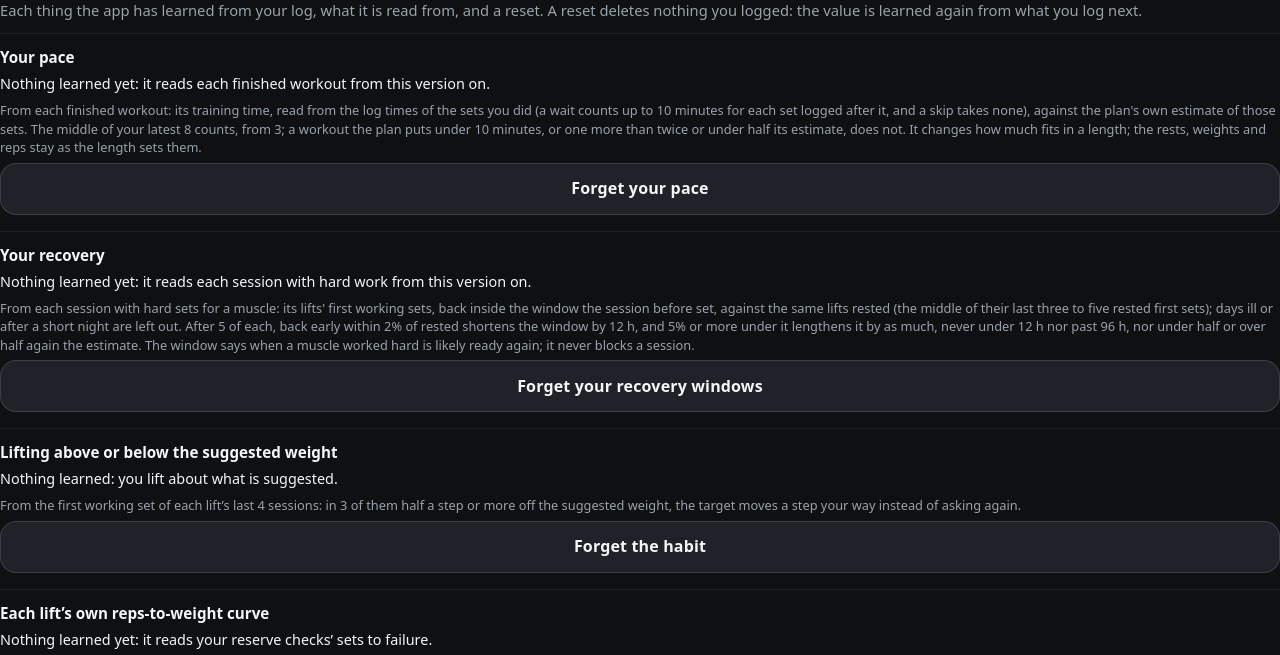
resetting what the app learned › asks once more on the page, and then resets
Click the button with test id "learned-reset-habit": x=640, y=547 [0,521,1279,573]
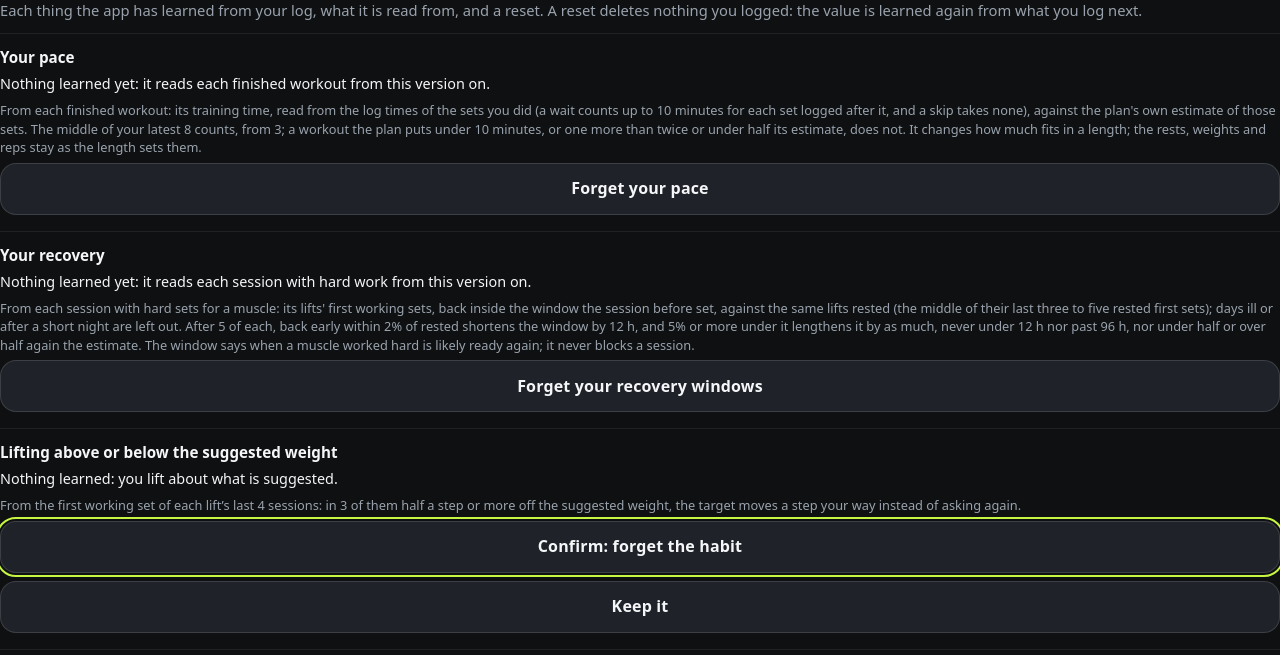
Click the button with test id "learned-confirm-habit": x=640, y=547 [0,521,1279,573]
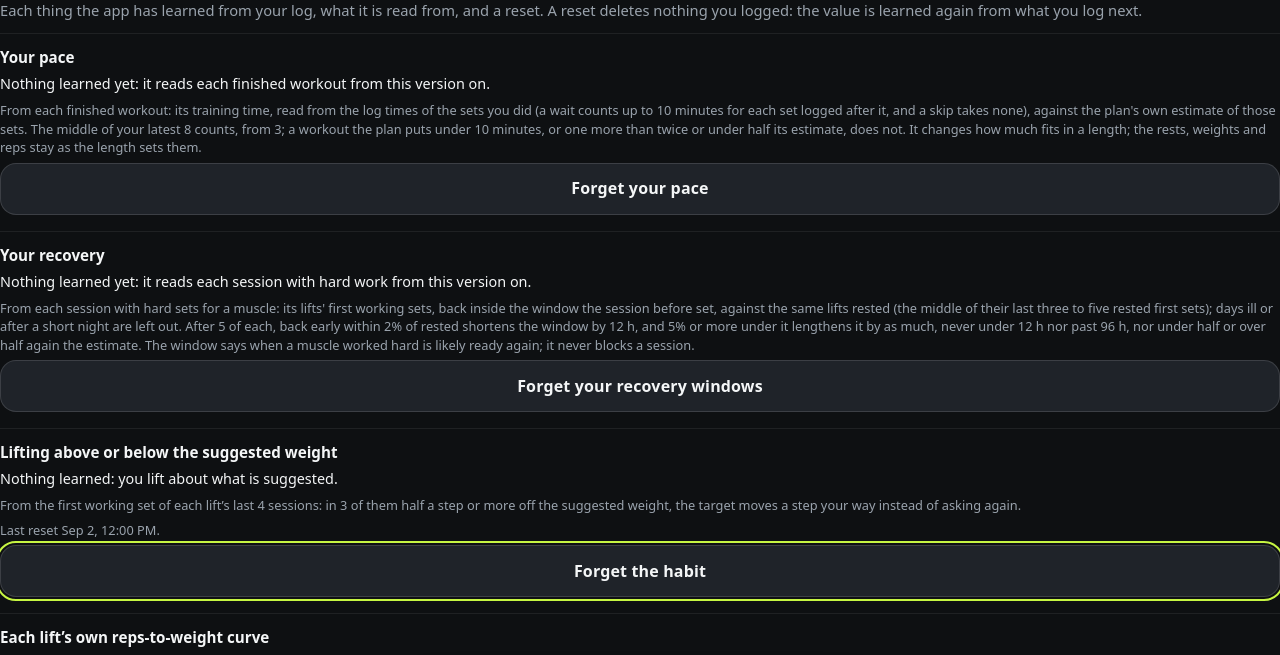
Expected: the button with test id "learned-reset-pace" reads "Forget your pace", [0,163,1279,215]
Expected: the text "Last reset Sep 2, 12:00 PM." is shown, [0,521,160,539]
